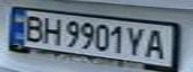0: (93, 21, 112, 52)
1: (109, 22, 127, 55)
9: (60, 18, 81, 48), (78, 20, 96, 51)
A: (142, 26, 169, 60)
B: (18, 12, 48, 43)
H: (39, 15, 63, 46)
Y: (124, 25, 148, 57)
